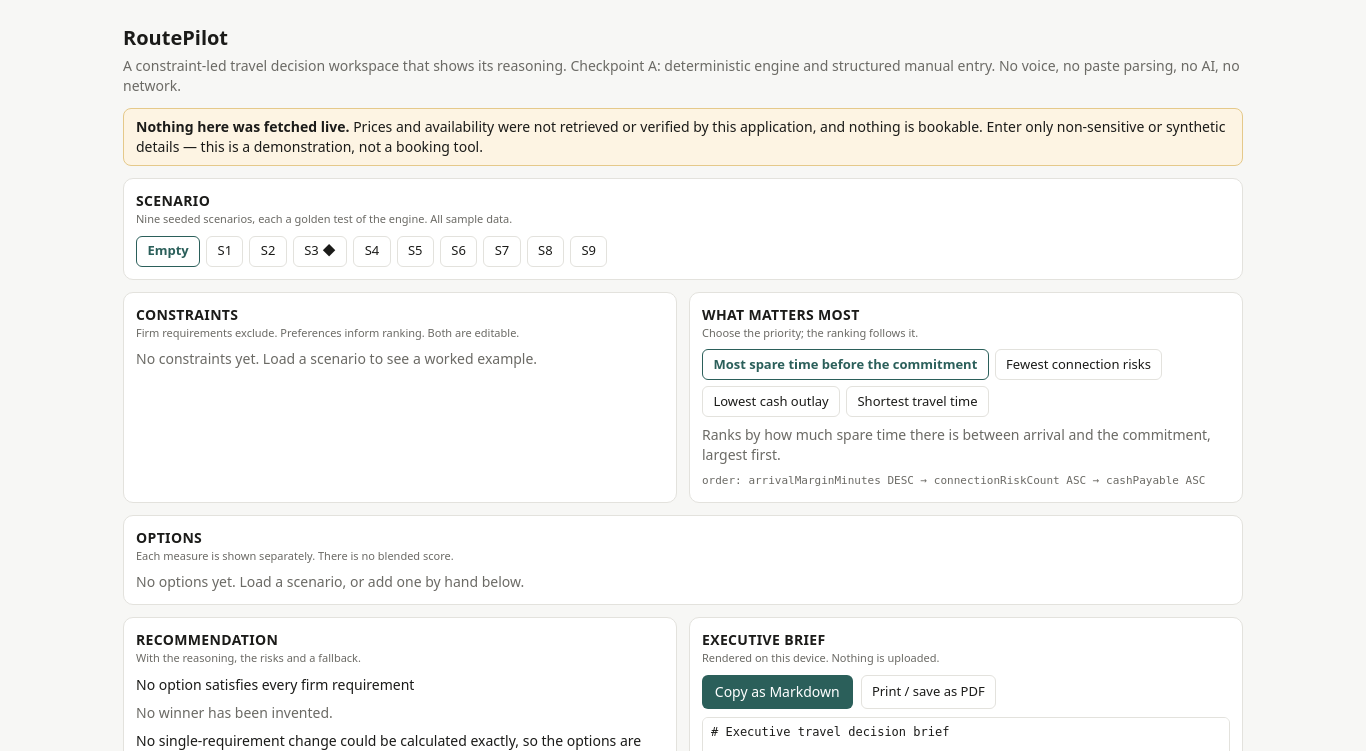
Test case: the deterministic workflow when AI is unavailable › the brief is generated locally, with no request
Click the button "S1": (225, 251) [206,236,244,267]
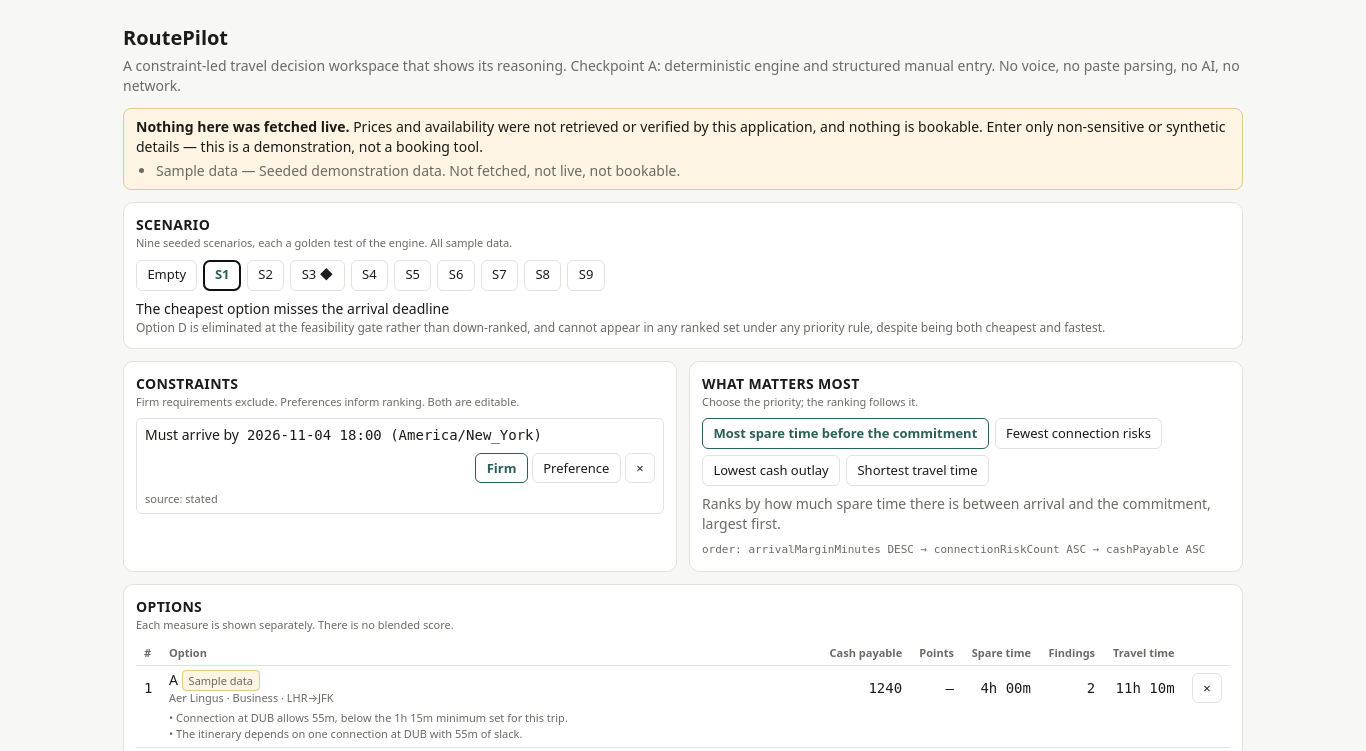
Check: the text "The cheapest option misses the arrival deadline" is shown, box [136,299,449,318]
